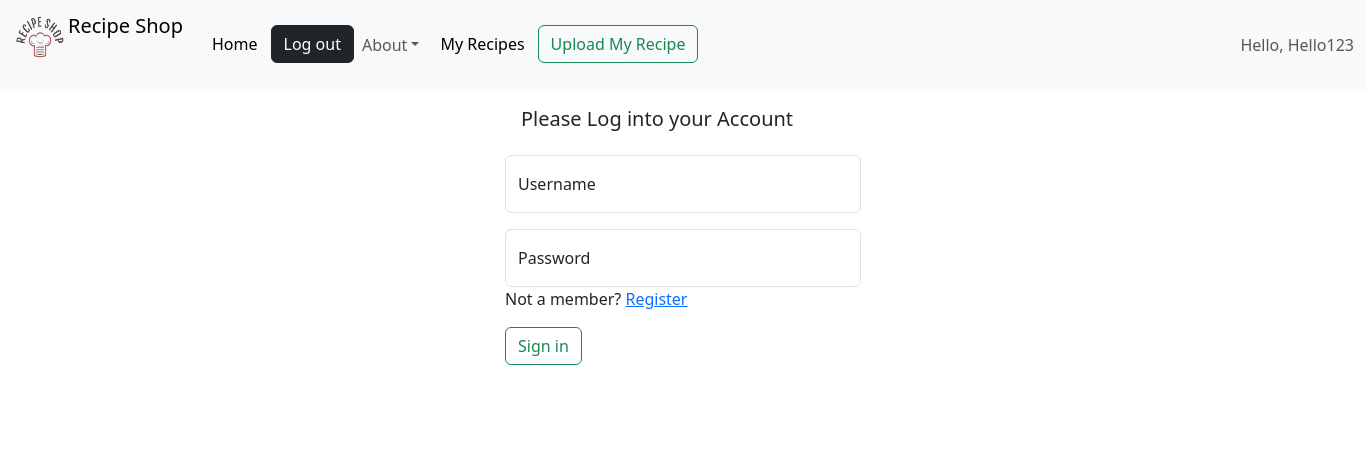
it: Login page UI functionality › User cannot login with incorrect username & password.
This screenshot has width=1366, height=470.
Type "Hello123" into the field with test id "l_username" at (683, 184), box [505, 155, 861, 213]
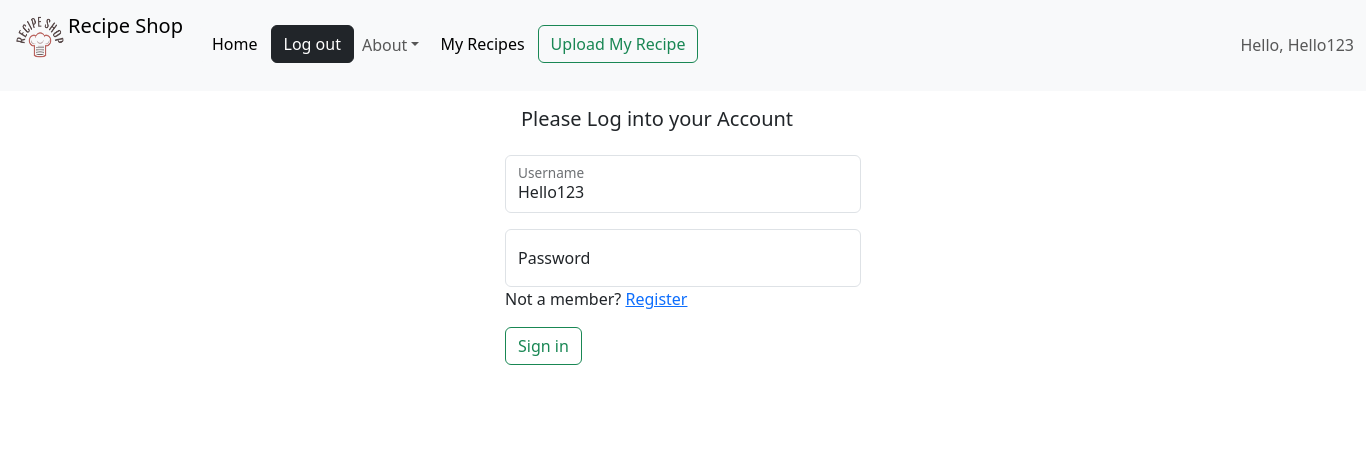
Type "dksjNDLJsl" into the password field with test id "l_password" at (683, 258), box [505, 229, 861, 287]
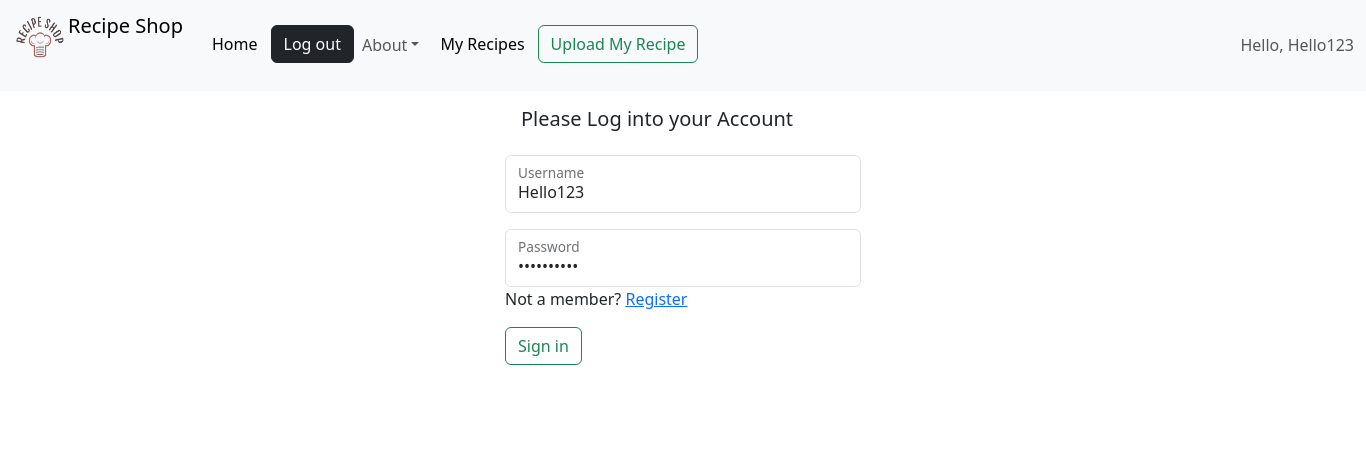
Click the button "Sign in" at (543, 346), box [505, 327, 582, 365]
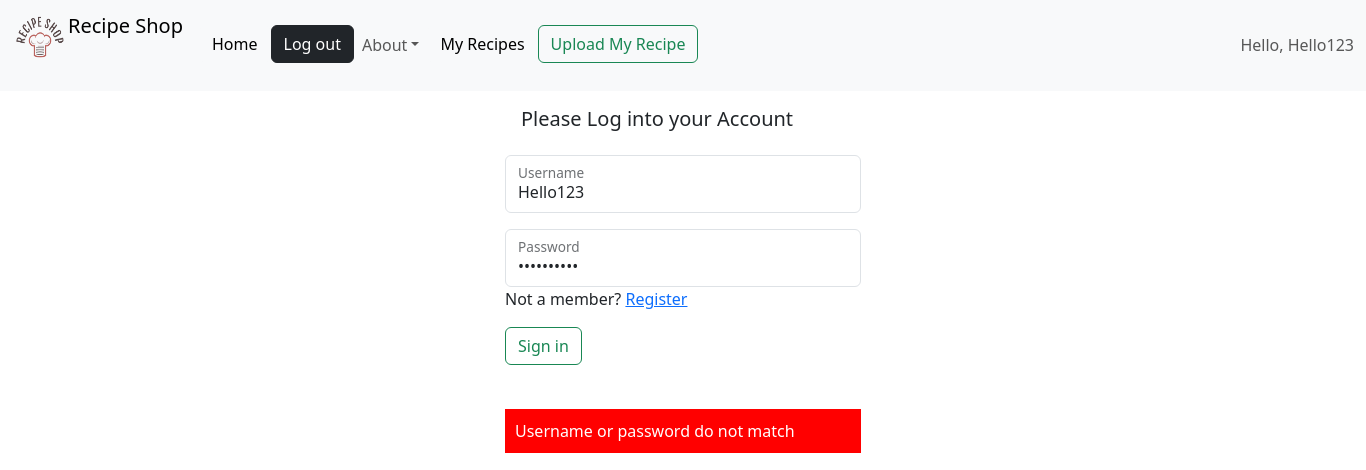
Check: the text "Username or password do not match" is shown, box [505, 409, 861, 453]
